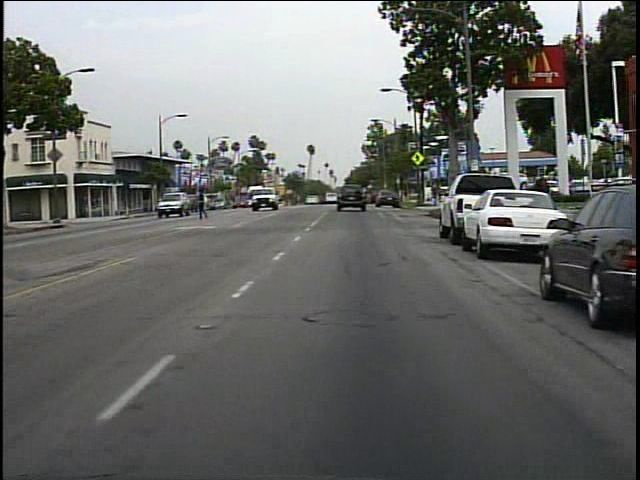person: (528, 169, 555, 226), (193, 184, 213, 223)
